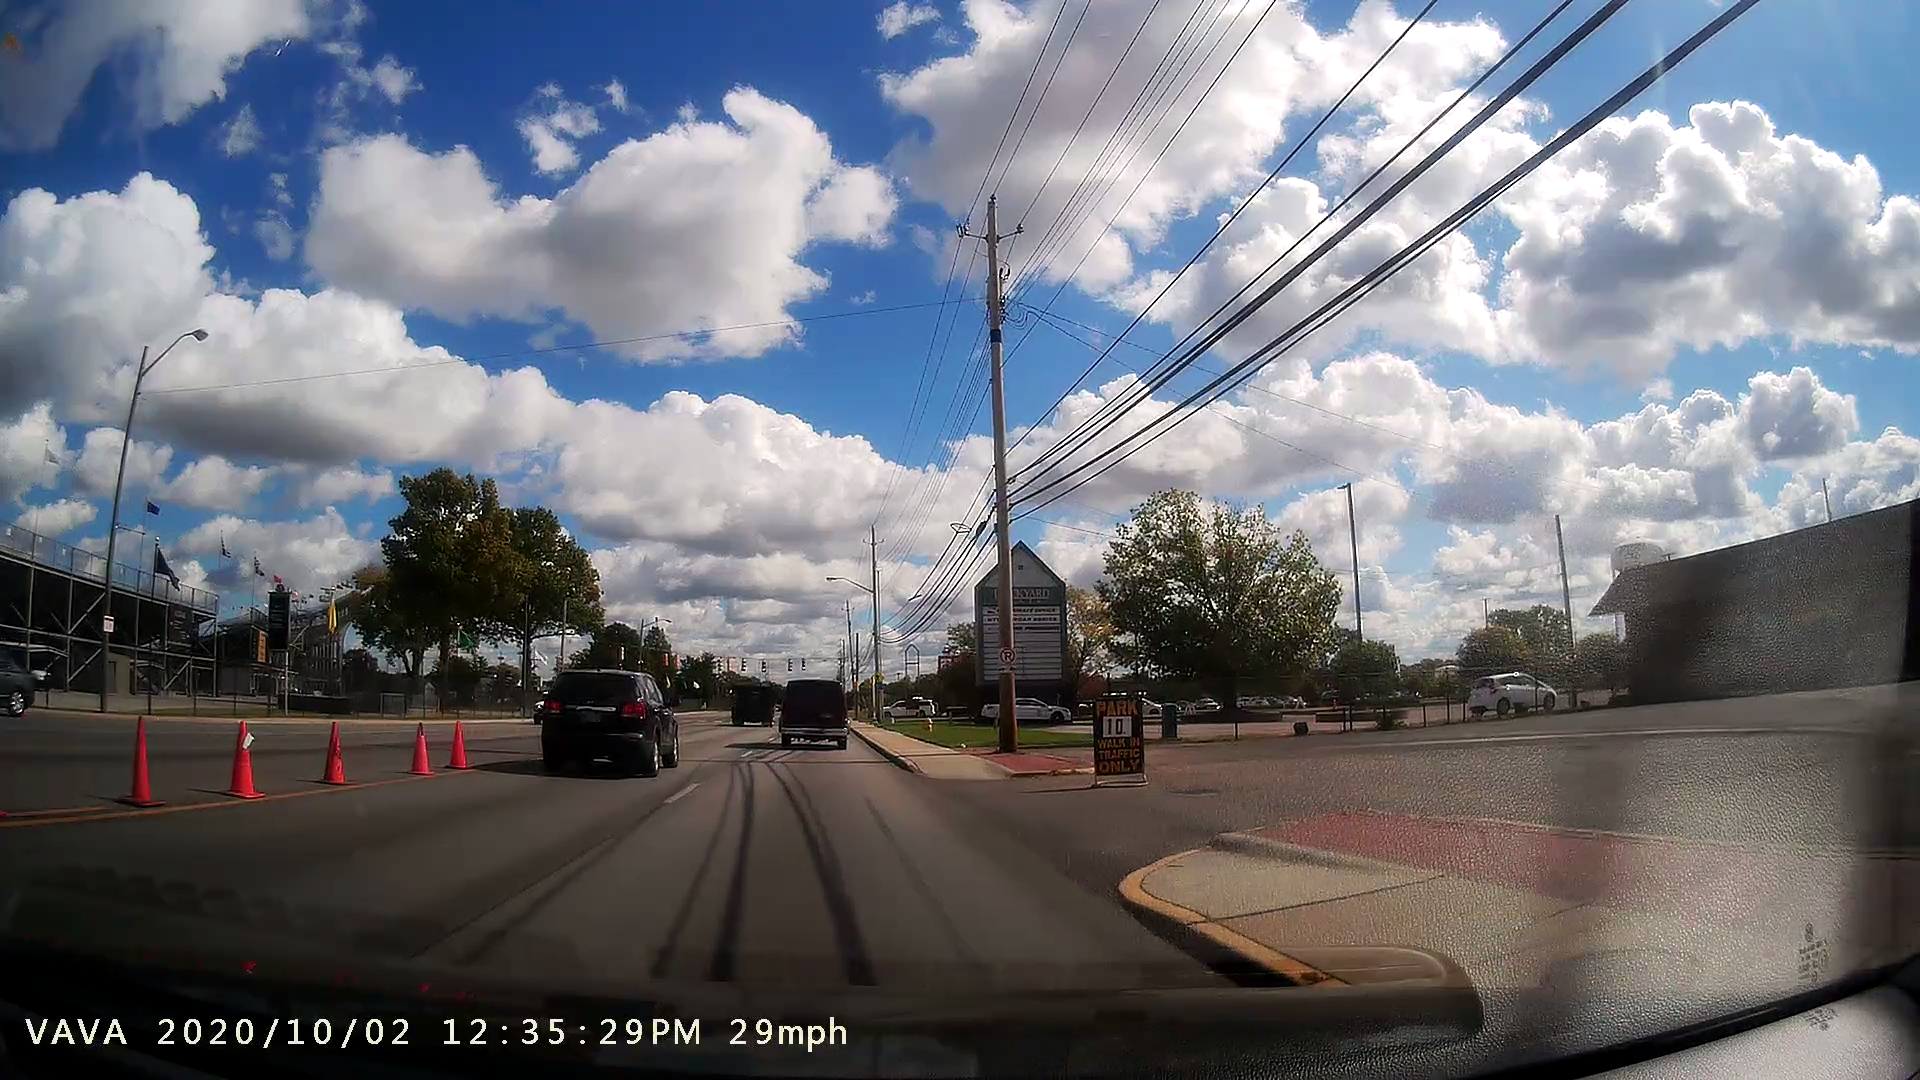const_cone: (104, 708, 179, 818), (220, 709, 280, 808), (307, 712, 353, 789), (439, 713, 485, 785), (400, 712, 436, 779)
